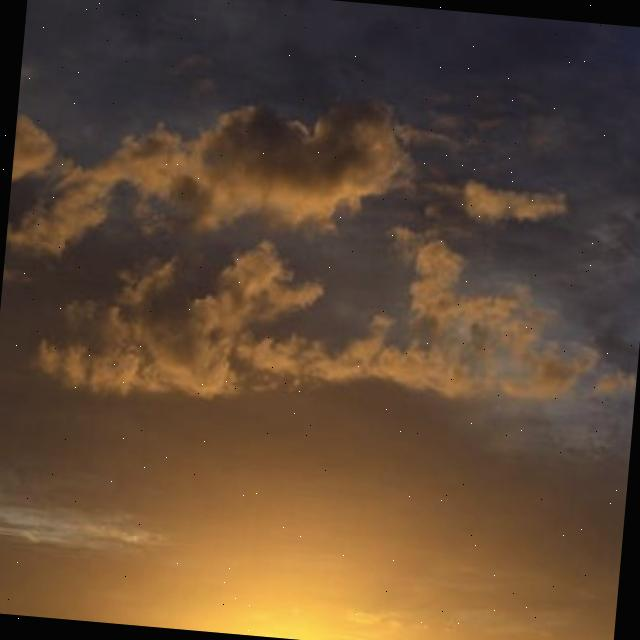As: (1, 29, 640, 533)
